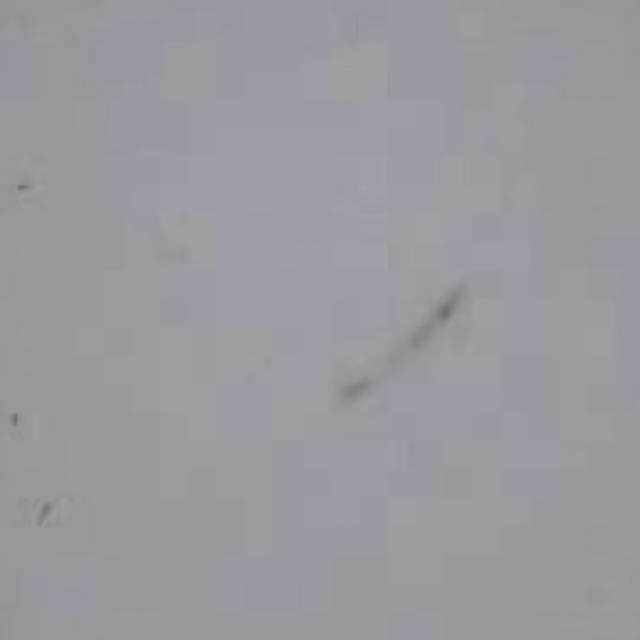shrimp-seed: (24, 496, 68, 536), (0, 175, 65, 201), (0, 400, 30, 455)
